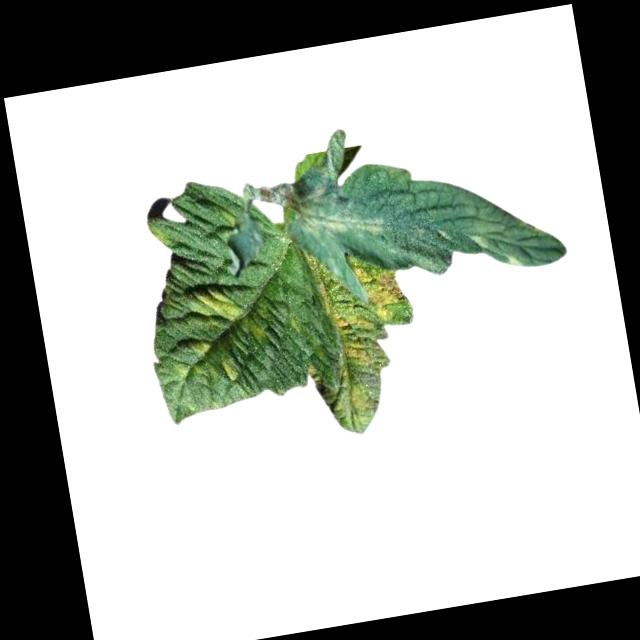Leaf_Mold: (282, 166, 384, 251), (328, 301, 382, 431), (350, 256, 408, 325), (190, 285, 246, 330), (185, 340, 211, 362)
